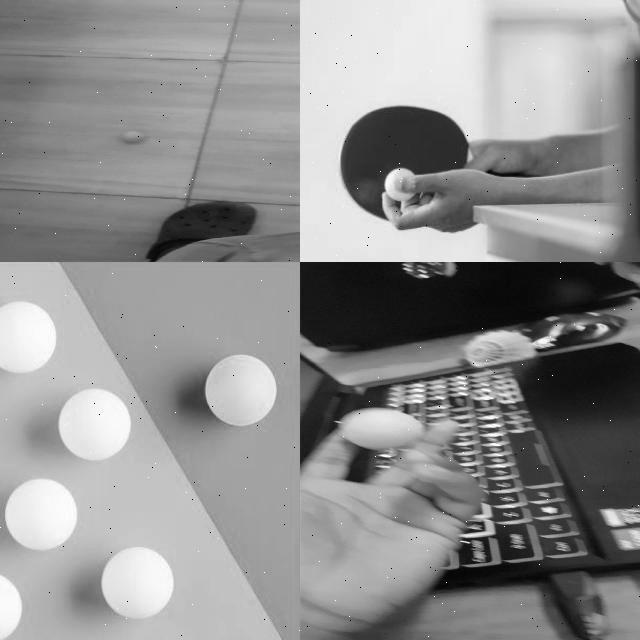ping-pong-ball: (100, 544, 174, 618), (8, 474, 78, 552), (60, 388, 132, 460), (203, 353, 275, 422), (0, 303, 56, 375), (340, 408, 420, 450), (0, 573, 23, 639), (384, 167, 416, 200), (121, 132, 142, 140)
